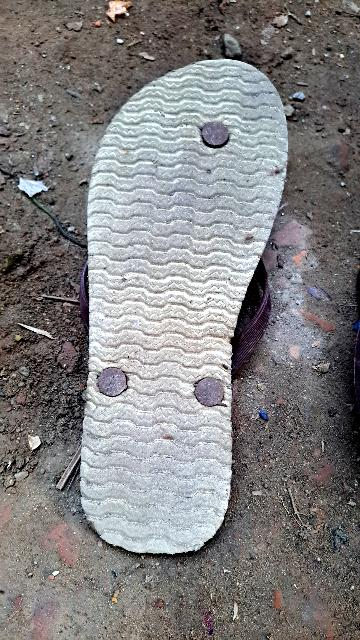sandal: (50, 34, 294, 575)
